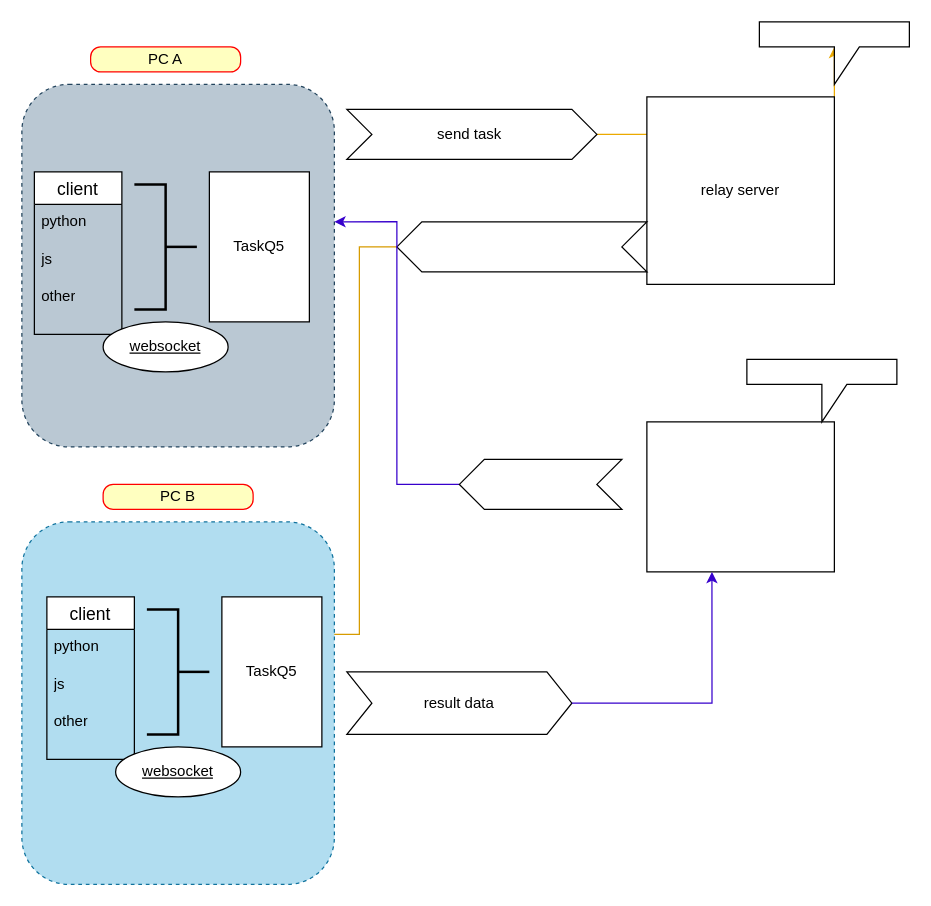
Image size: 931x906. Some labels were removed from this diagram. The shapes that lost their labels are listed below. From the top down, each one's centre as x and y in pixels, then its label:
At (833,52): "save task infomation".
At (521,246): "get task".
At (821,390): "content data".
At (540,483): "return result data".
At (740,496): "Nostr Bridge".
